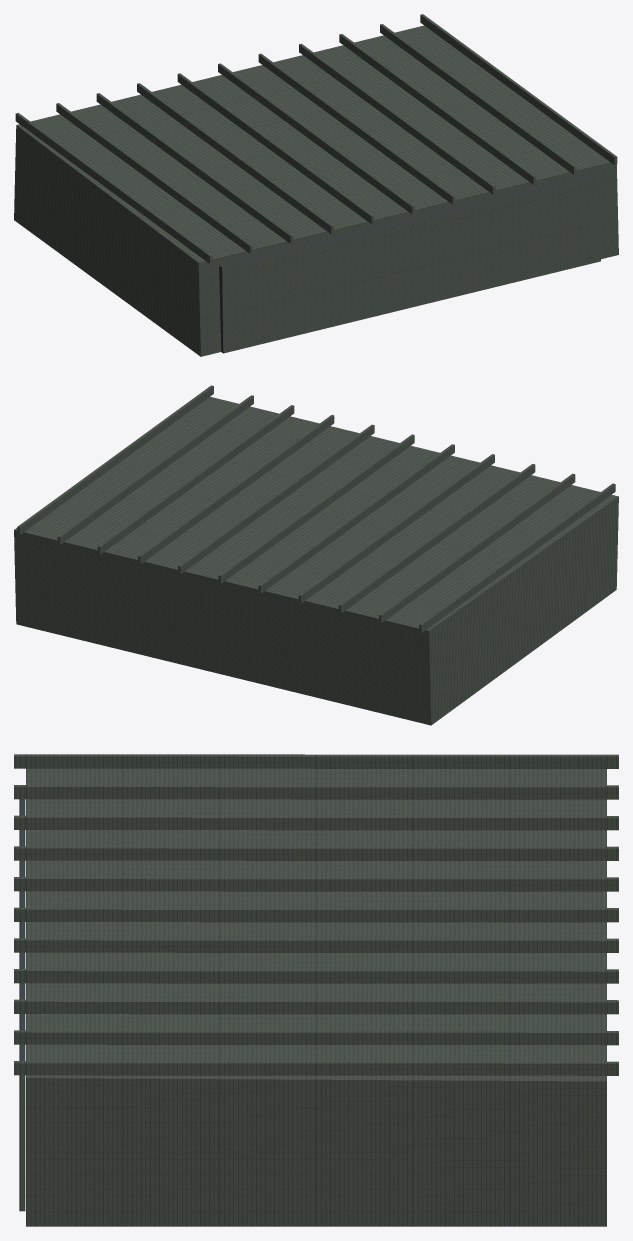
File: damaged2.gltf
3 renders of one model, top to bottom at view 1: azimuth 30°, elevation 25°; view 2: azimuth 150°, elevation 25°; view 3: azimuth 270°, elevation 25°, orthographic. The views are drawn at different scales.
Parts seen in each view (by area): view 1: britainhangar_damaged2; view 2: britainhangar_damaged2; view 3: britainhangar_damaged2.
Boxes of the visible parts, x1,y1,x2,y2 form: britainhangar_damaged2: (14,14,618,356); britainhangar_damaged2: (14,385,618,725); britainhangar_damaged2: (14,754,618,1226).
Size of the model in its own units: 62.67 by 14.52 by 50.
3 materials, 3 textured.
